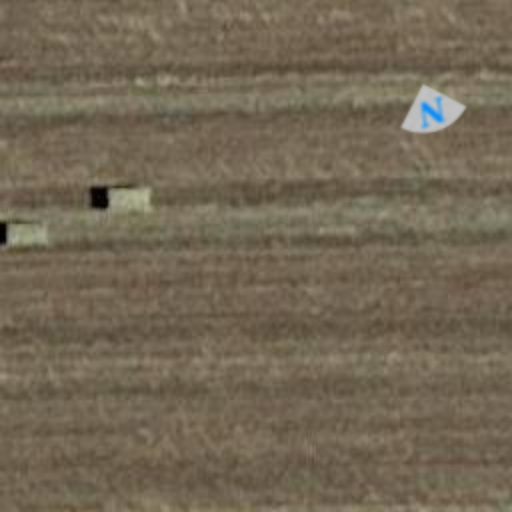quarter_circle: (390, 70, 474, 154)
